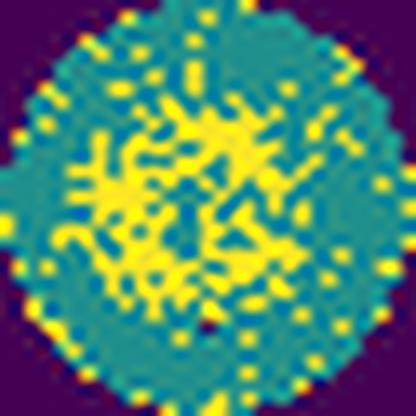Donut: (52, 89, 318, 333)
